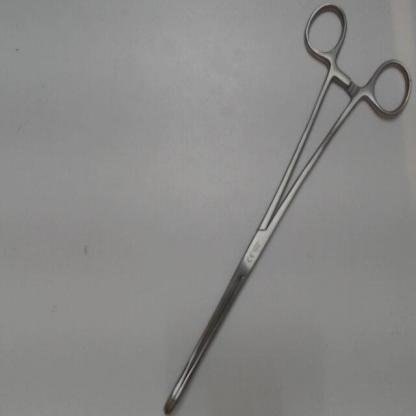Sponge Forceps: (156, 0, 415, 415)
